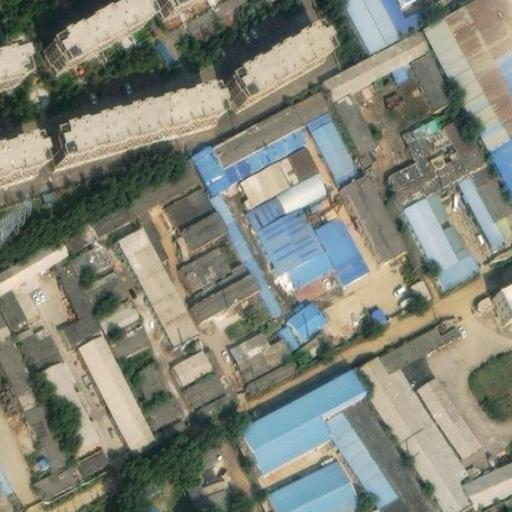building: (358, 343, 470, 512), (322, 390, 442, 512), (420, 0, 512, 148), (240, 360, 370, 464), (48, 85, 225, 159), (220, 22, 332, 102), (119, 223, 196, 339), (82, 328, 157, 447), (210, 186, 283, 306), (400, 97, 491, 187), (191, 121, 309, 188), (402, 185, 478, 282), (34, 353, 106, 455), (323, 23, 430, 91), (253, 200, 333, 287), (43, 0, 149, 65), (413, 367, 483, 456), (341, 165, 409, 256), (262, 451, 361, 512), (210, 96, 308, 156), (298, 85, 357, 174), (244, 169, 329, 224), (238, 144, 320, 201), (129, 160, 202, 214), (314, 208, 368, 279), (21, 393, 71, 466), (0, 232, 70, 284), (456, 167, 504, 241), (347, 0, 422, 47), (390, 314, 460, 362), (177, 437, 234, 495), (190, 267, 261, 313), (228, 324, 293, 373), (332, 83, 378, 150), (15, 312, 66, 368), (172, 202, 230, 251), (467, 155, 512, 217), (408, 43, 454, 103), (459, 450, 512, 501), (177, 241, 233, 289), (241, 351, 302, 395), (384, 153, 431, 203), (55, 259, 96, 315), (165, 179, 215, 223), (110, 318, 159, 359), (71, 440, 118, 481), (181, 363, 226, 404), (141, 386, 186, 426), (32, 456, 80, 493), (125, 354, 168, 395), (63, 306, 106, 344), (0, 134, 39, 175), (171, 344, 213, 380), (94, 196, 136, 229), (193, 483, 237, 512), (62, 214, 101, 246), (0, 282, 29, 323), (0, 461, 21, 510), (487, 276, 512, 315), (407, 271, 435, 301), (278, 313, 299, 343), (364, 296, 389, 320), (390, 53, 414, 74), (89, 500, 122, 512), (356, 499, 382, 512), (473, 288, 492, 304)
